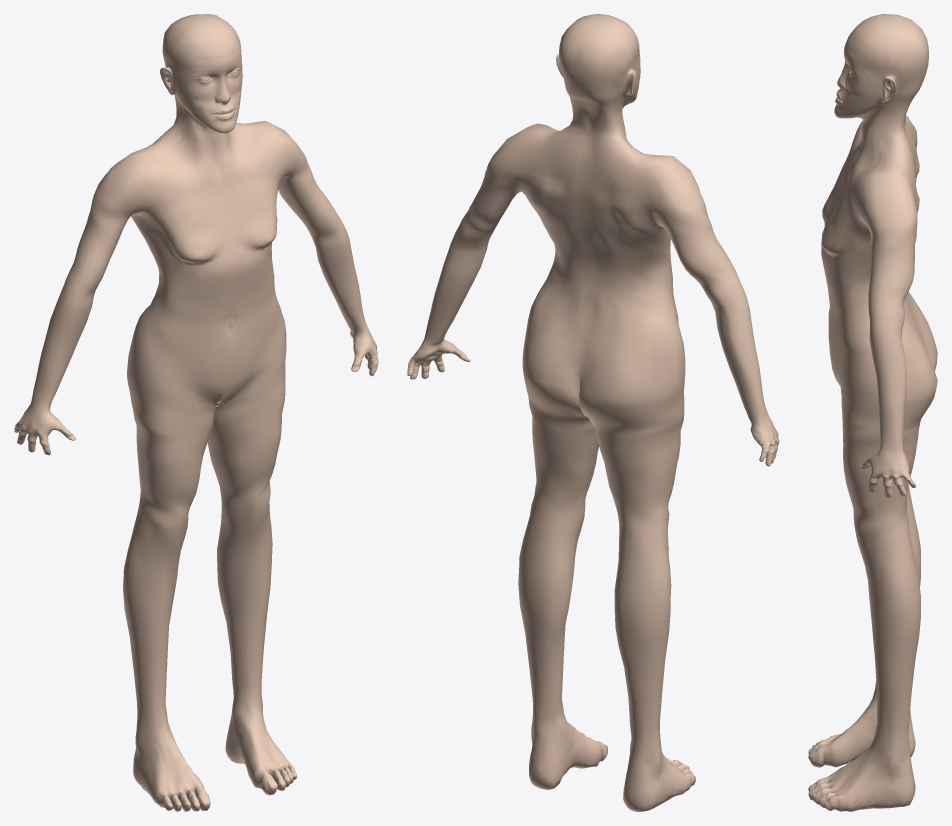
Rendered from human-body.glb.
3 renders of one model, left to right at view 1: azimuth 30°, elevation 25°; view 2: azimuth 150°, elevation 25°; view 3: azimuth 270°, elevation 25°, orthographic. The views are drawn at different scales.
Visible parts, largest first — view 1: HumanBody; view 2: HumanBody; view 3: HumanBody.
Boxes of the visible parts, left/top/right/bottom form: HumanBody: left=14, top=14, right=378, bottom=811; HumanBody: left=407, top=14, right=779, bottom=811; HumanBody: left=808, top=14, right=937, bottom=811.
Size of the model in its own units: 0.8548 by 1.75 by 0.2686.
